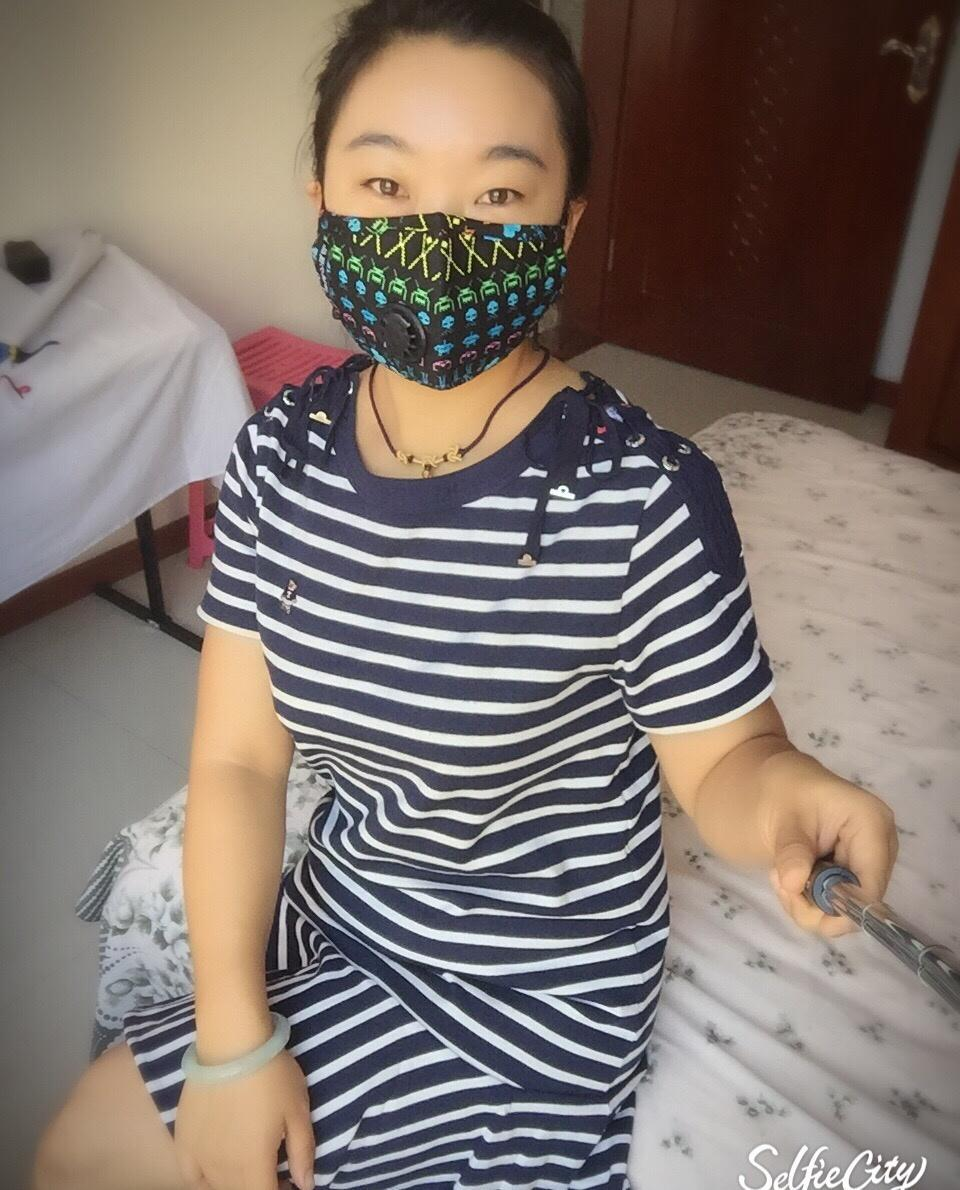OK: (310, 112, 589, 391)
